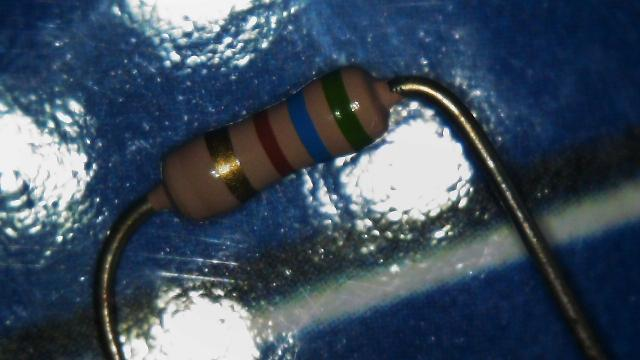blue: (286, 92, 334, 163)
brown: (253, 110, 296, 177)
gold: (204, 127, 254, 201)
green: (321, 69, 372, 151)
resistor: (119, 41, 414, 259)
